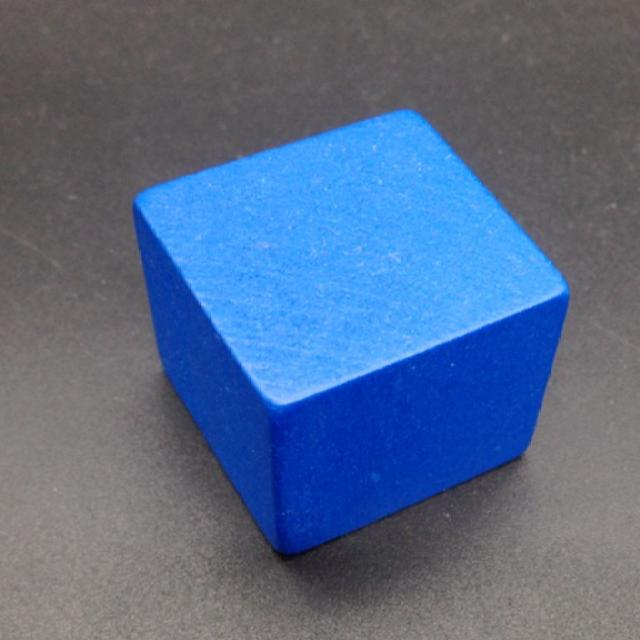bluecube: (131, 108, 571, 561)
